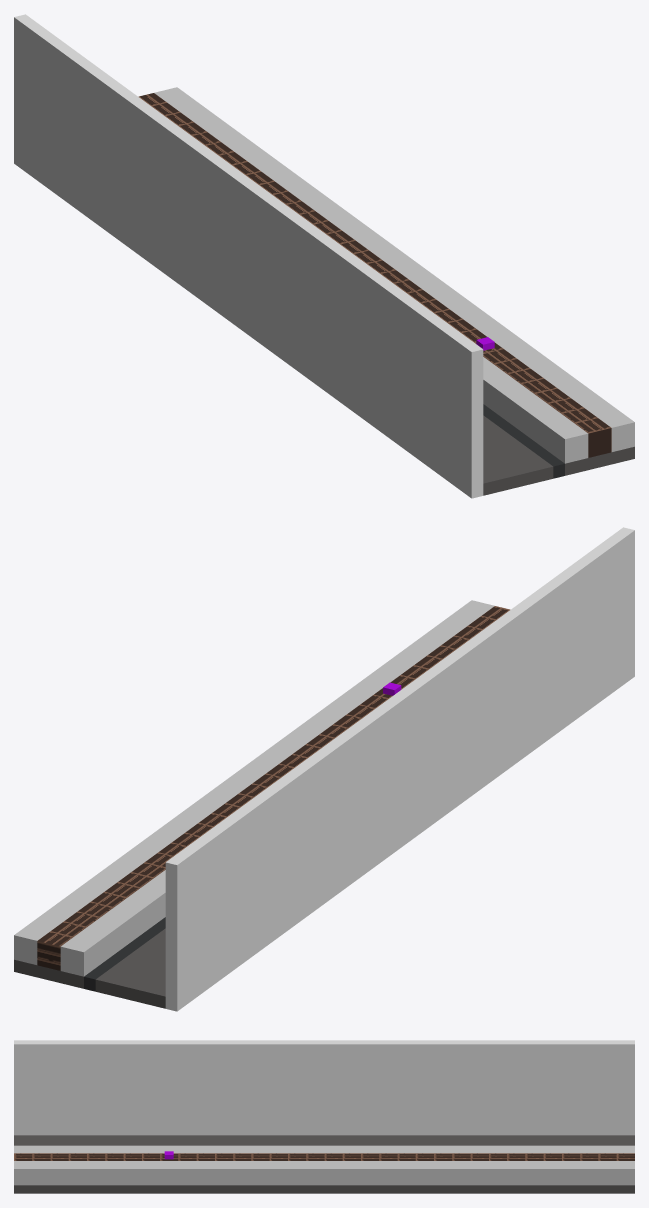
Rendered from MainFloor.fbx.
The picture shows the model from 3 angles, top to bottom: view 1: azimuth 30°, elevation 25°; view 2: azimuth 150°, elevation 25°; view 3: azimuth 270°, elevation 25°; orthographic projection. The views are drawn at different scales.
Parts seen in each view (by area): view 1: Wall-Dungeon1.002, Cube.063, Cube.064, Floor-Village.001, Cube, Floor-Village; view 2: Wall-Dungeon1.002, Cube.063, Cube.064, Floor-Village.001, Cube, Floor-Village; view 3: Wall-Dungeon1.002, Cube.063, Floor-Village.001, Cube.064, Floor-Village.
Boxes of the visible parts, <box> form: Wall-Dungeon1.002: <box>14,14,483,498</box>; Cube.063: <box>138,87,513,342</box>; Cube.064: <box>475,333,634,463</box>; Floor-Village.001: <box>483,415,553,495</box>; Cube: <box>483,404,564,478</box>; Floor-Village: <box>565,446,634,475</box>; Wall-Dungeon1.002: <box>165,527,634,1011</box>; Cube.063: <box>14,689,388,976</box>; Cube.064: <box>351,600,510,698</box>; Floor-Village.001: <box>95,928,165,1008</box>; Cube: <box>84,917,165,991</box>; Floor-Village: <box>14,959,83,988</box>; Wall-Dungeon1.002: <box>14,1040,634,1135</box>; Cube.063: <box>178,1145,634,1185</box>; Floor-Village.001: <box>14,1135,634,1145</box>; Cube.064: <box>14,1145,178,1185</box>; Floor-Village: <box>14,1185,634,1193</box>.
Bounding box in the file's own units: 2800 × 2400 × 13600.
